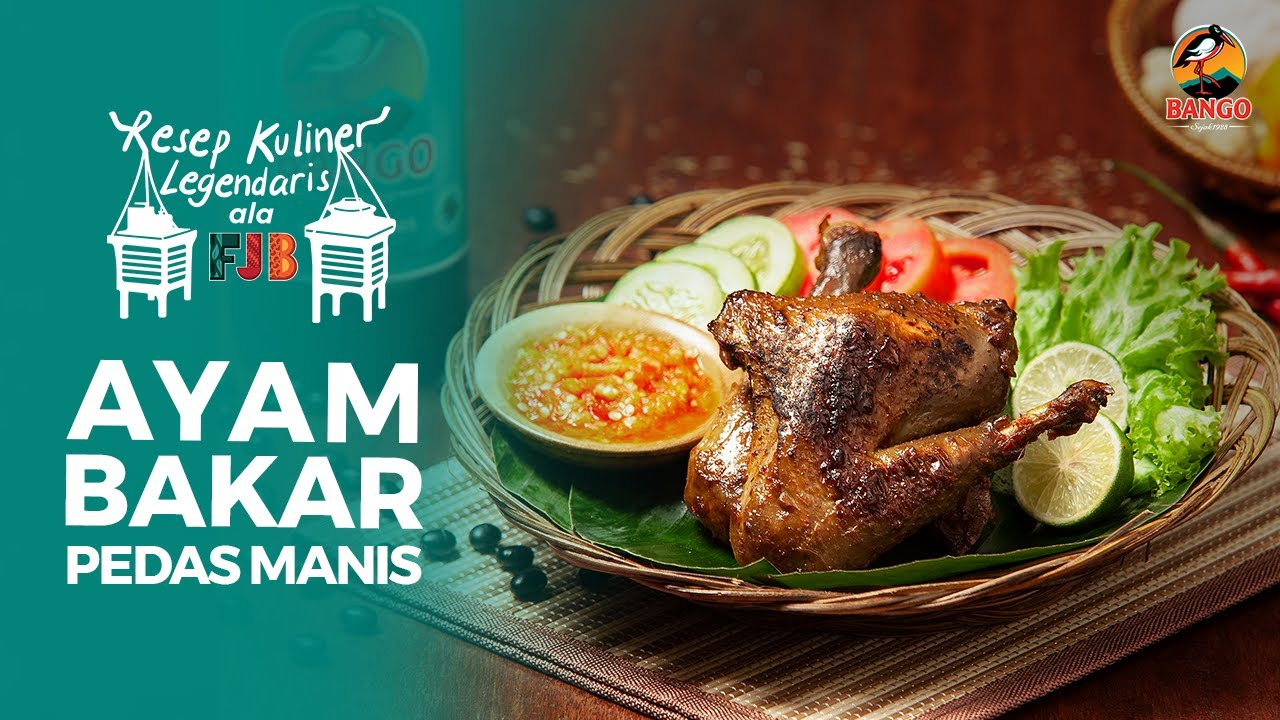Ayam: (671, 273, 1128, 590)
